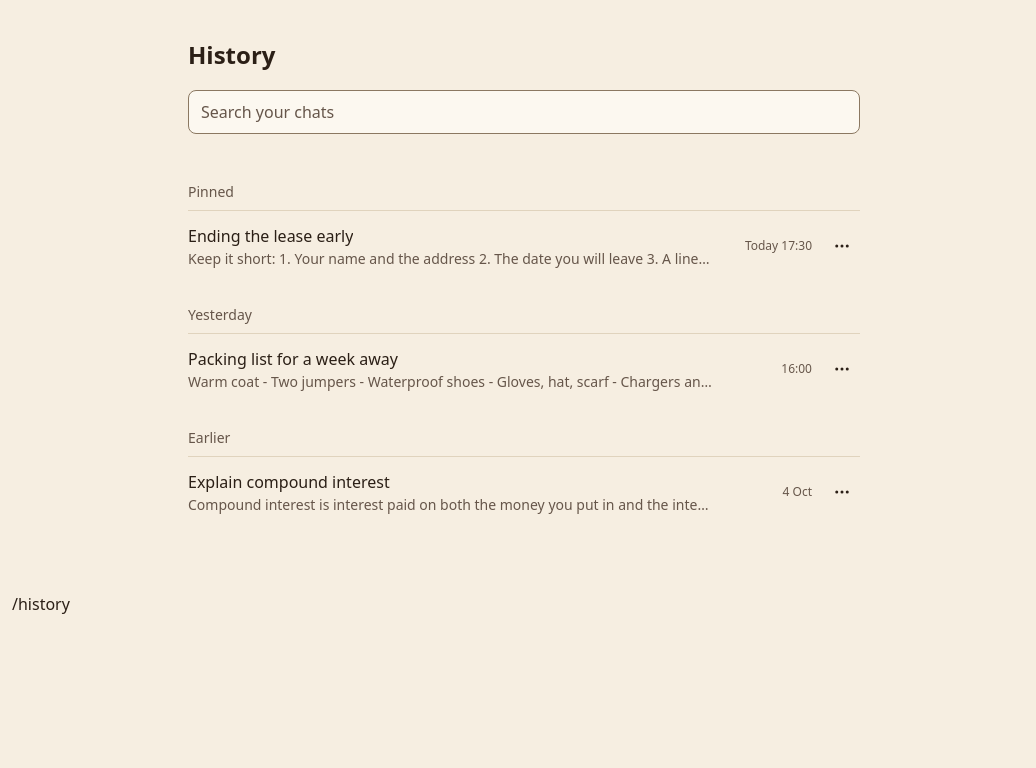
Test: History row actions › export saves a file through the browser and says its name
Click the button named "More for Packing list for a week away" at (842, 369), box left=824, top=351, right=860, bottom=387
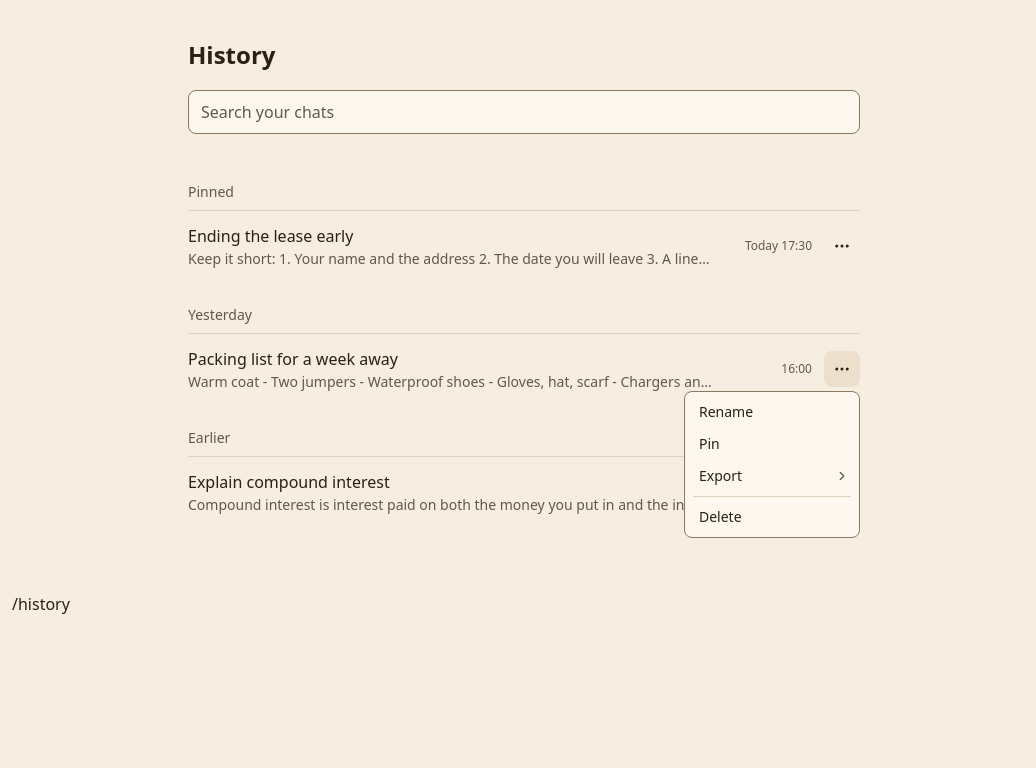
Press Arrowdown Arrowdown Arrowdown
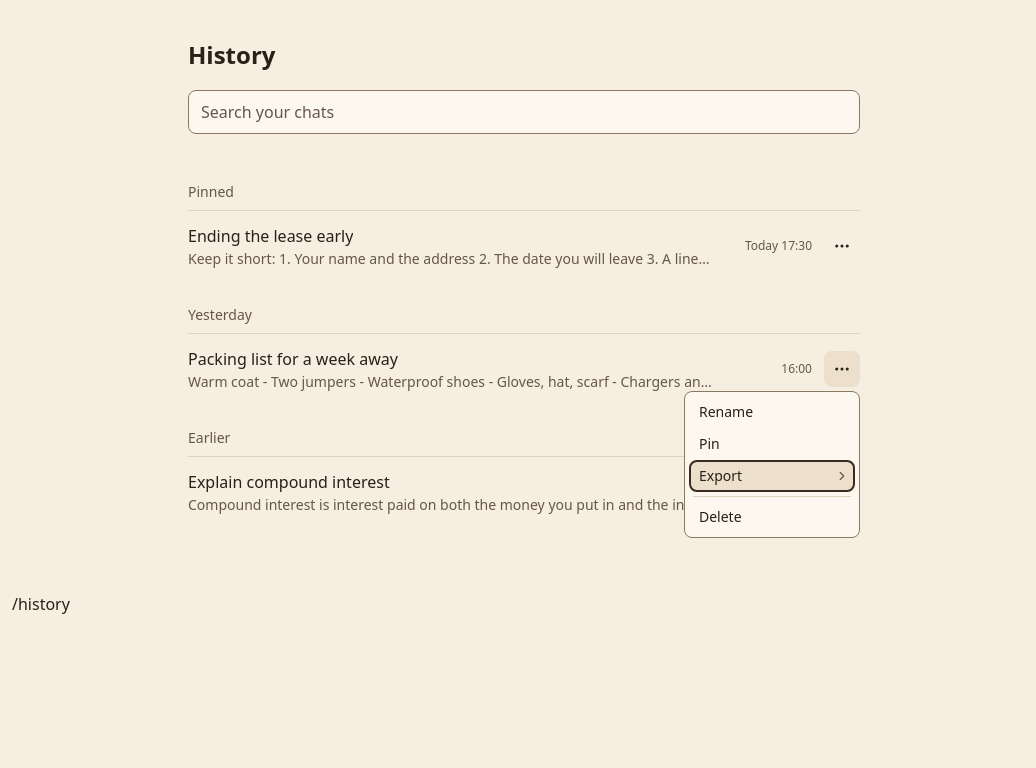
Expected: the menu item "Export" is shown, left=689, top=460, right=855, bottom=492
Press Arrowright
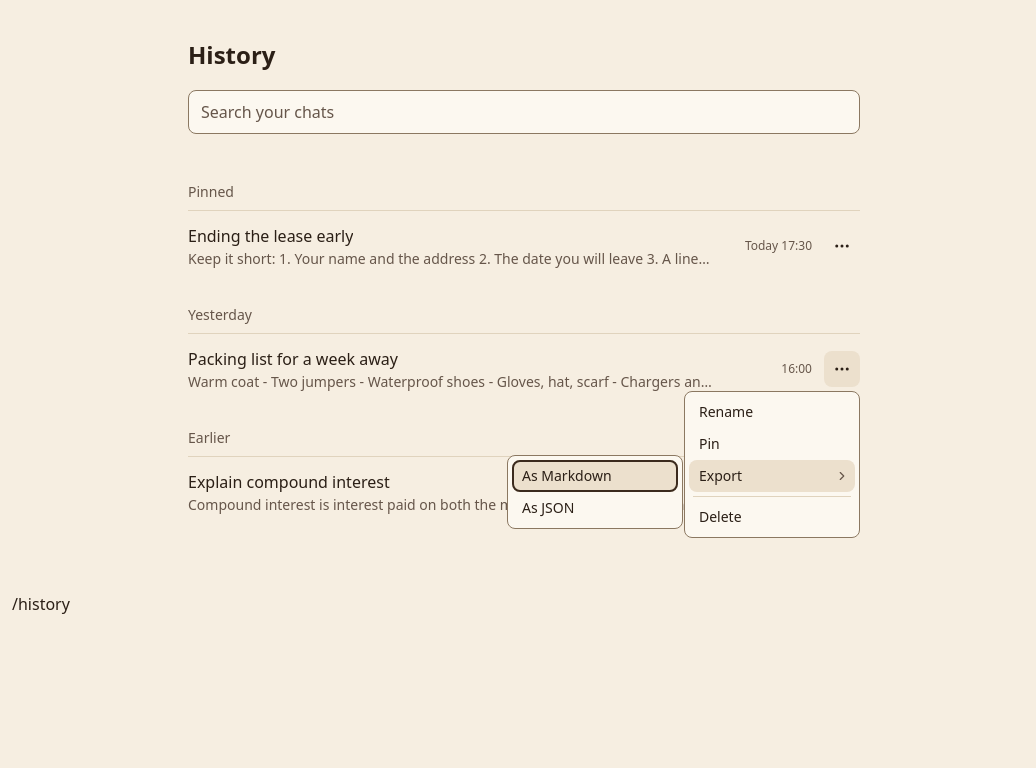
Expected: the menu item "As Markdown" is shown, left=512, top=460, right=678, bottom=492
Press Enter
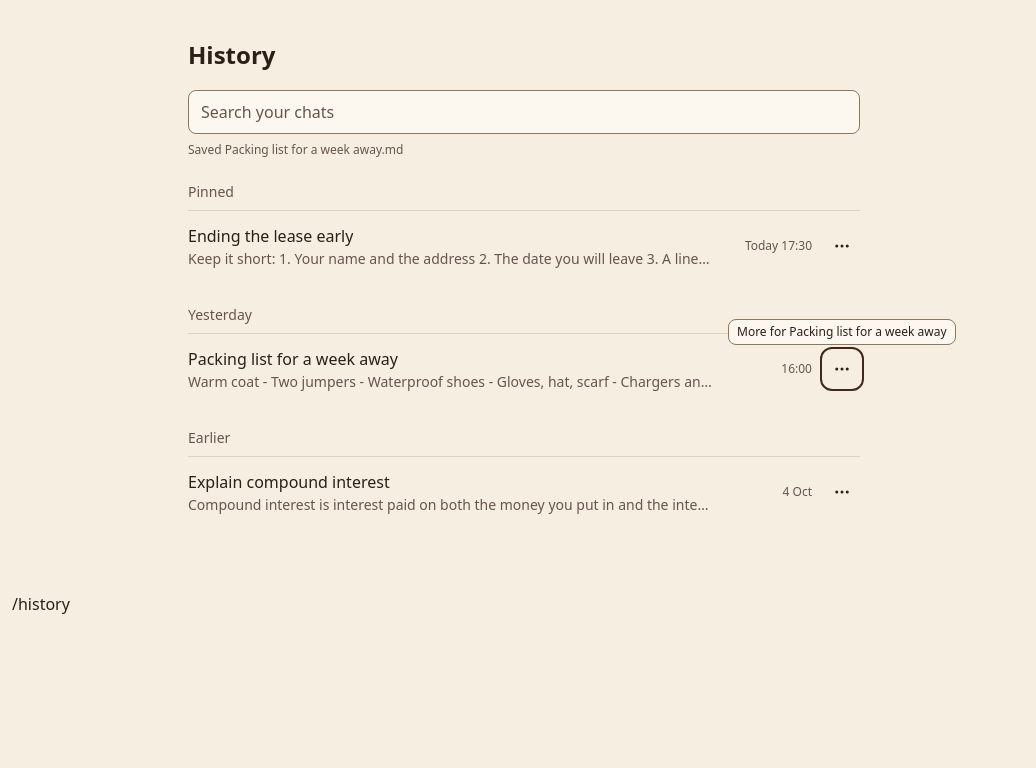
Expected: the text "Saved Packing list for a week away.md" is shown, left=188, top=141, right=403, bottom=158
